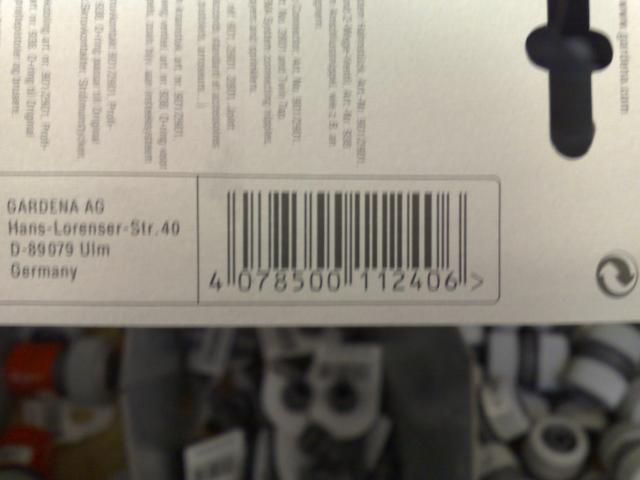Barcode: (200, 179, 497, 300)
